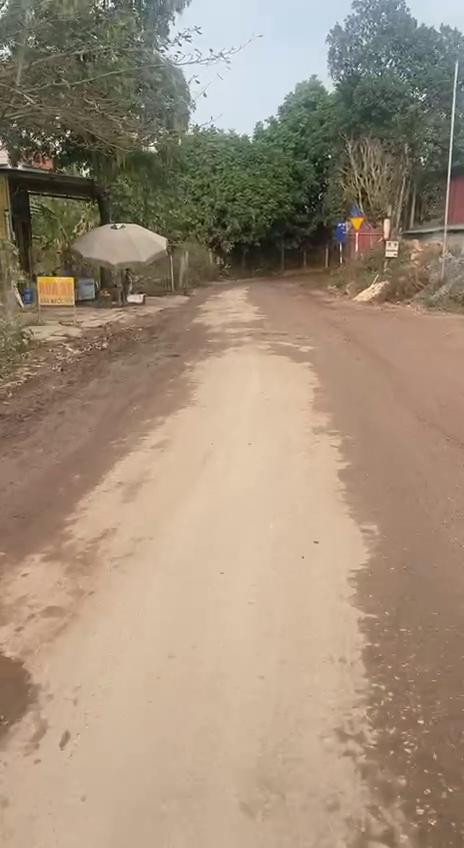pothole: (0, 642, 46, 752)
